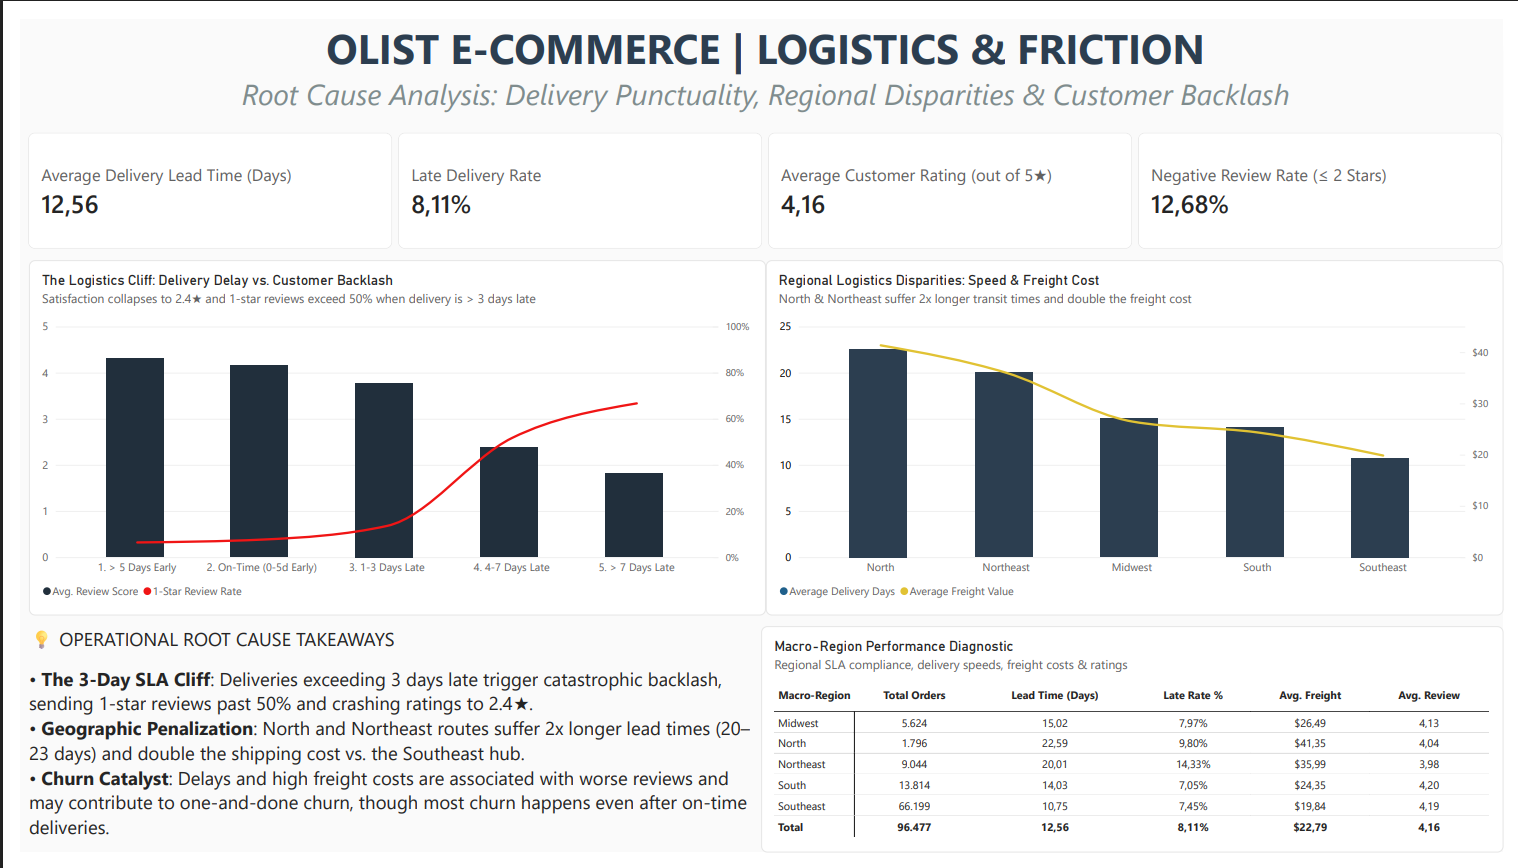

The dashboard page shown, as its layout file describes it:
{"tool":"powerbi","page":{"name":"Logistics & Friction","canvas":[1920,1080],"ordinal":1},"visuals":[{"type":"textbox","box":[10.3,0,1910.1,148.2],"z":0},{"type":"textbox","box":[10.9,787.2,948.3,293.2],"z":1000},{"type":"cardVisual","fields":{"Data":["_measures.avg_delivery_days","_measures.late_delivery_rate","_measures.avg_review_score","_measures.negative_review_rate"]},"box":[10,148.4,1910,150],"z":2000},{"type":"lineClusteredColumnComboChart","title":"The Logistics Cliff: Delivery Delay vs. Customer Backlash","fields":{"Category":["fact_orders.delivery_bucket"],"Y":["_measures.avg_review_score"],"Y2":["_measures.one_star_review_rate"]},"box":[10.9,313.1,953.7,459.7],"z":3000},{"type":"lineClusteredColumnComboChart","title":"Regional Logistics Disparities: Speed & Freight Cost","fields":{"Category":["fact_orders.macro_region"],"Y":["_measures.avg_delivery_days"],"Y2":["_measures.avg_freight_value"]},"box":[964.5,313.1,955.5,459.7],"z":4000},{"type":"pivotTable","title":"Macro-Region Performance Diagnostic","fields":{"Rows":["fact_orders.macro_region"],"Values":["_measures.total_orders","_measures.avg_delivery_days","_measures.late_delivery_rate","_measures.avg_freight_value","_measures.avg_review_score"]},"box":[959.1,787.2,960.9,293.2],"z":5000}]}

Visuals, with their boxes in screenshot pixels (x1, y1, x2, y2), scaled from the page's 1920x1080 canvas onto the 1518x868 screenshot:
textbox: {"x1": 8, "y1": 0, "x2": 1517, "y2": 119}
textbox: {"x1": 9, "y1": 633, "x2": 758, "y2": 867}
cardVisual - _measures.avg_delivery_days x _measures.late_delivery_rate: {"x1": 8, "y1": 119, "x2": 1517, "y2": 240}
"The Logistics Cliff: Delivery Delay vs. Customer Backlash" lineClusteredColumnComboChart: {"x1": 9, "y1": 252, "x2": 763, "y2": 621}
"Regional Logistics Disparities: Speed & Freight Cost" lineClusteredColumnComboChart: {"x1": 763, "y1": 252, "x2": 1517, "y2": 621}
"Macro-Region Performance Diagnostic" pivotTable: {"x1": 758, "y1": 633, "x2": 1517, "y2": 867}
